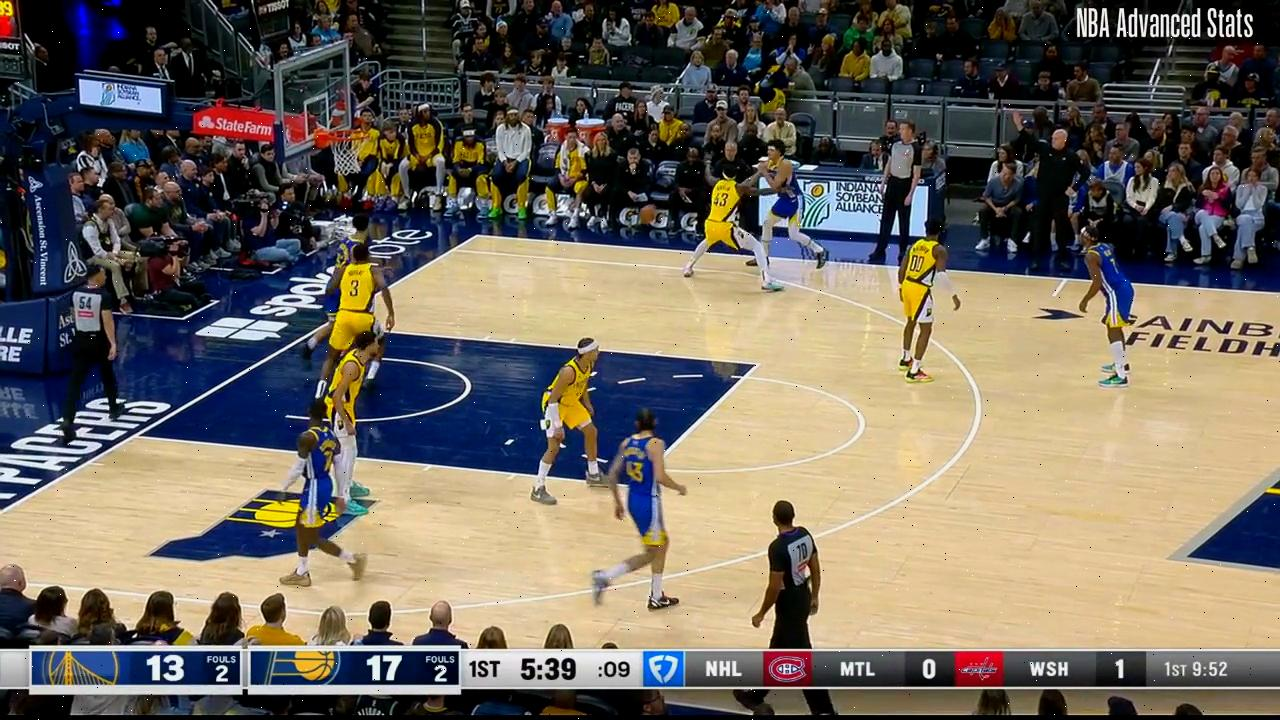basketball: (636, 205, 661, 226)
